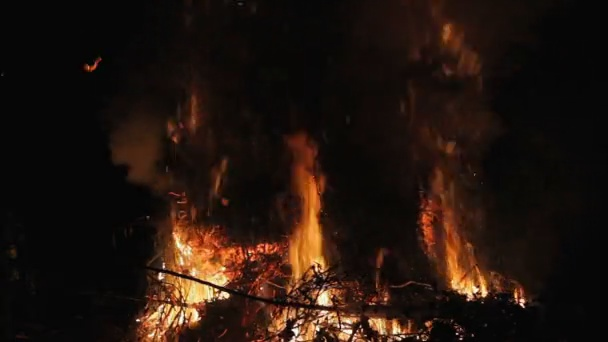fire: (281, 140, 331, 342), (143, 227, 227, 328), (423, 199, 486, 299), (334, 314, 409, 342)
